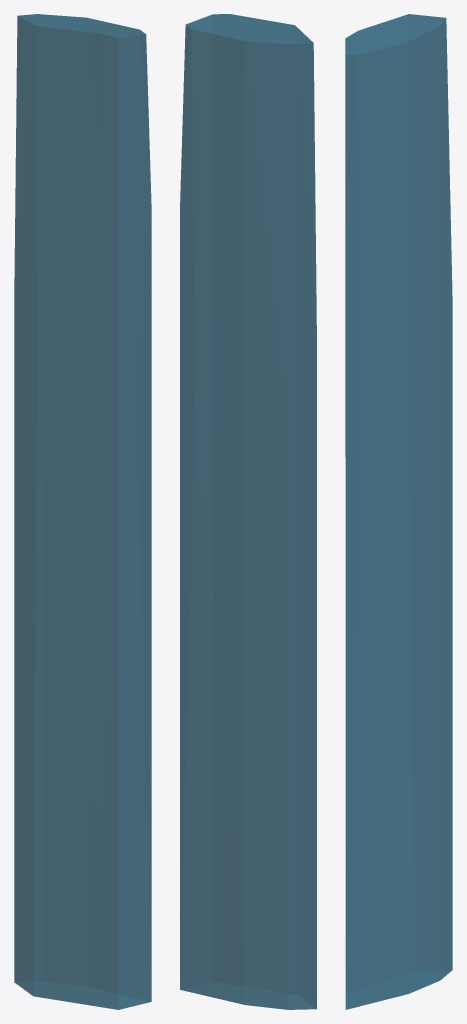
3 renders of one model, left to right at view 1: azimuth 30°, elevation 25°; view 2: azimuth 210°, elevation 25°; view 3: azimuth 270°, elevation 25°, orthographic.
Visible parts, largest first — view 1: Shape_IndexedFaceSet.088_Shape_IndexedFaceSet.9378; view 2: Shape_IndexedFaceSet.088_Shape_IndexedFaceSet.9378; view 3: Shape_IndexedFaceSet.088_Shape_IndexedFaceSet.9378.
Boxes of the visible parts, x1,y1,x2,y2 form: Shape_IndexedFaceSet.088_Shape_IndexedFaceSet.9378: (14, 14, 151, 1009); Shape_IndexedFaceSet.088_Shape_IndexedFaceSet.9378: (180, 14, 316, 1009); Shape_IndexedFaceSet.088_Shape_IndexedFaceSet.9378: (345, 14, 452, 1009).
Bounding box in the file's own units: 0.0691 × 0.7704 × 0.0782.
